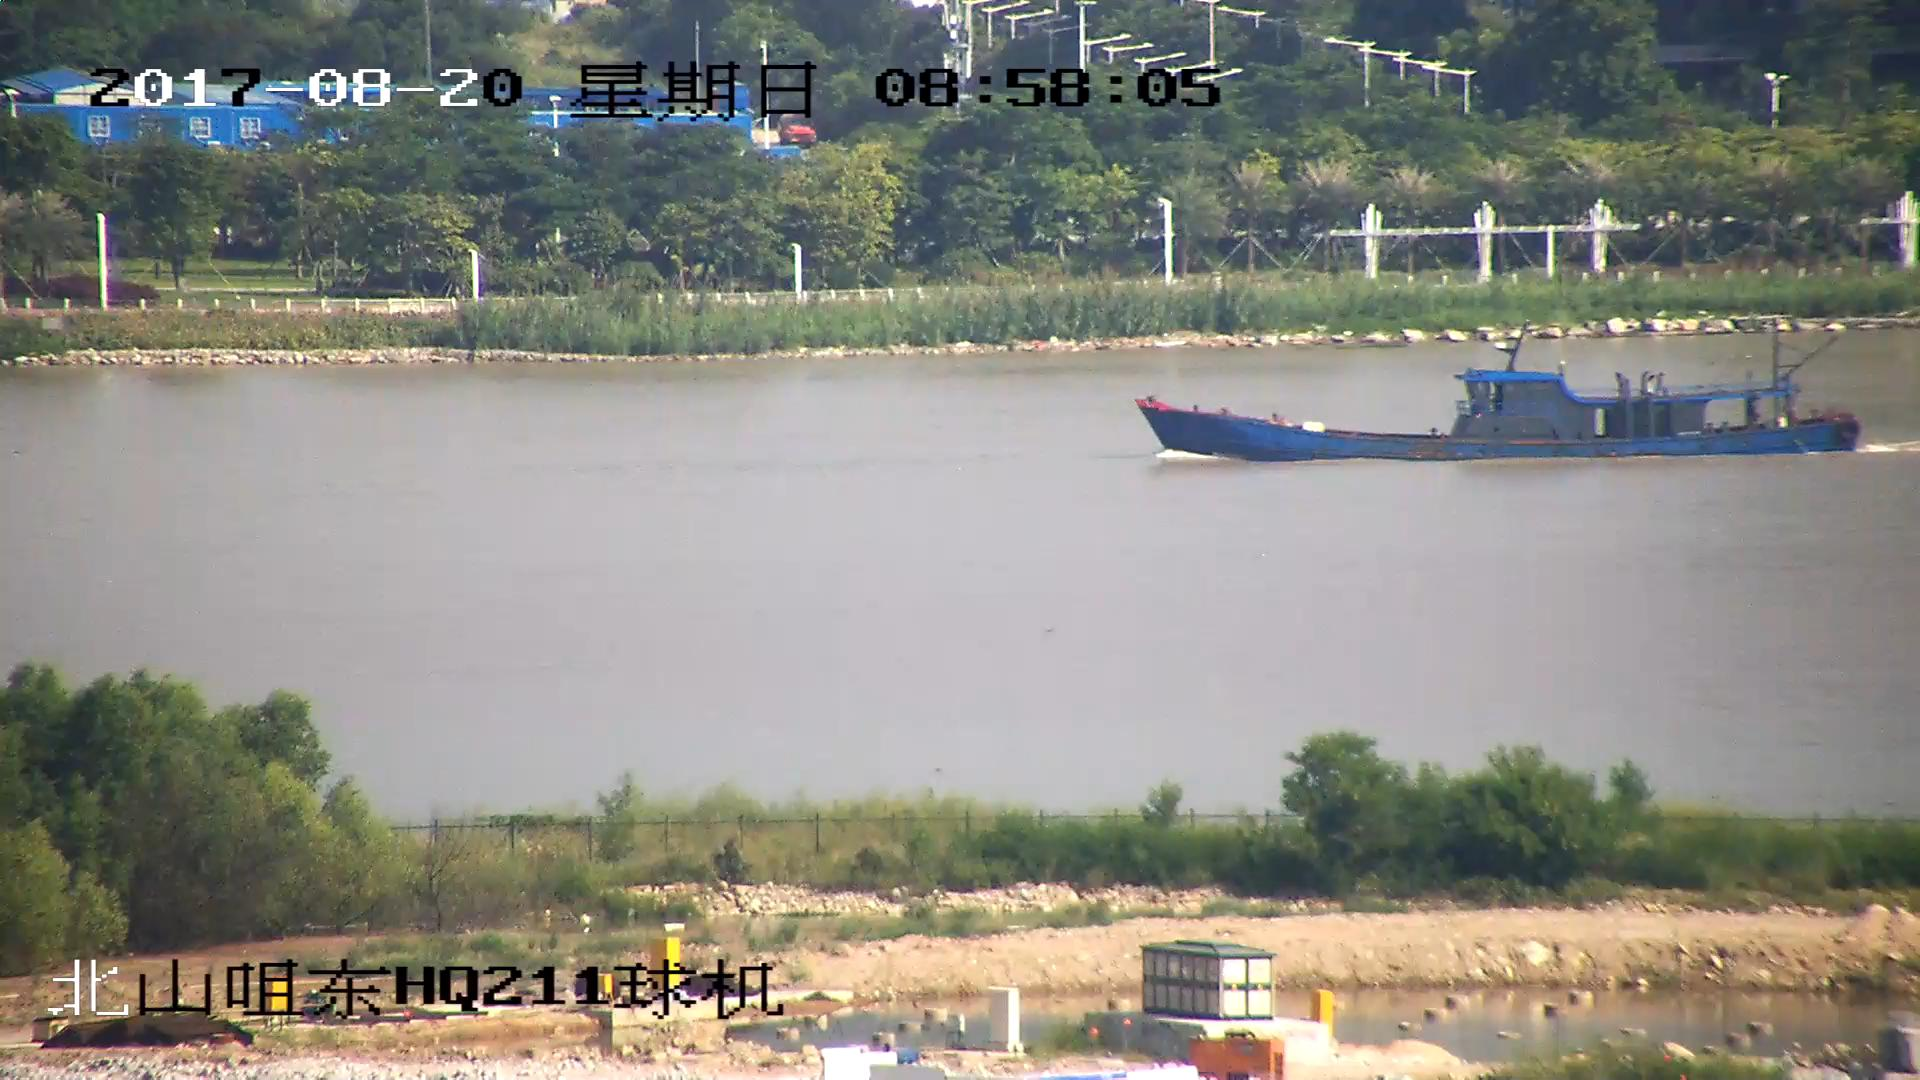fishing boat: (1136, 326, 1854, 461)
